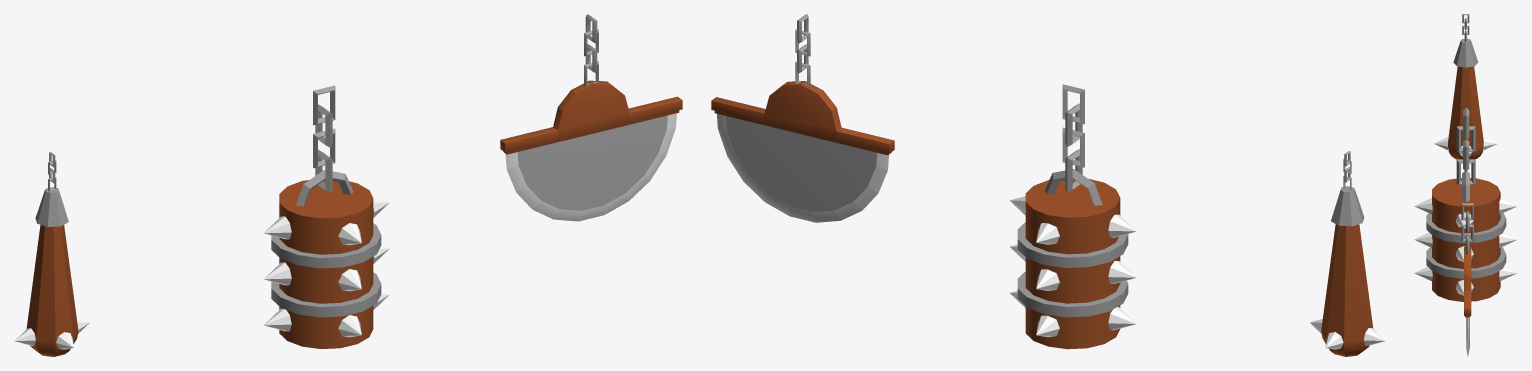
Rendered from spiked_blades.glb.
3 views of the same model, side by side, from view 1: azimuth 30°, elevation 25°; view 2: azimuth 150°, elevation 25°; view 3: azimuth 270°, elevation 25° (orthographic). The views are drawn at different scales.
Parts seen in each view (by area): view 1: Obstacles - 3_Model, Obstacles - 2_Model, Obstacles - 1_Model; view 2: Obstacles - 3_Model, Obstacles - 2_Model, Obstacles - 1_Model; view 3: Obstacles - 3_Model, Obstacles - 1_Model, Obstacles - 2_Model.
Boxes of the visible parts, x1,y1,x2,y2 form: Obstacles - 3_Model: (264, 85, 389, 348); Obstacles - 2_Model: (500, 14, 682, 221); Obstacles - 1_Model: (14, 152, 89, 356); Obstacles - 3_Model: (1010, 84, 1136, 349); Obstacles - 2_Model: (711, 14, 894, 222); Obstacles - 1_Model: (1310, 151, 1384, 356); Obstacles - 3_Model: (1414, 107, 1517, 301); Obstacles - 1_Model: (1434, 14, 1497, 159); Obstacles - 2_Model: (1461, 203, 1473, 356).
Bounding box in the file's own units: 4.22 × 1.49 × 0.7828.
